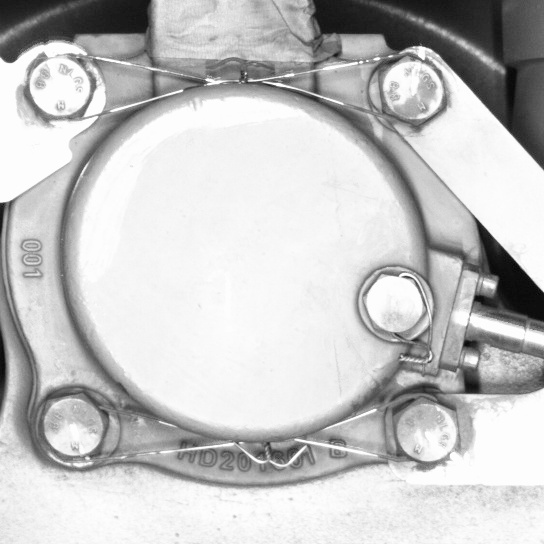IronWire: (29, 384, 464, 475), (16, 45, 452, 133)
Screw: (14, 44, 103, 132), (29, 383, 114, 469), (383, 389, 465, 475), (369, 49, 451, 132), (355, 265, 434, 342)
